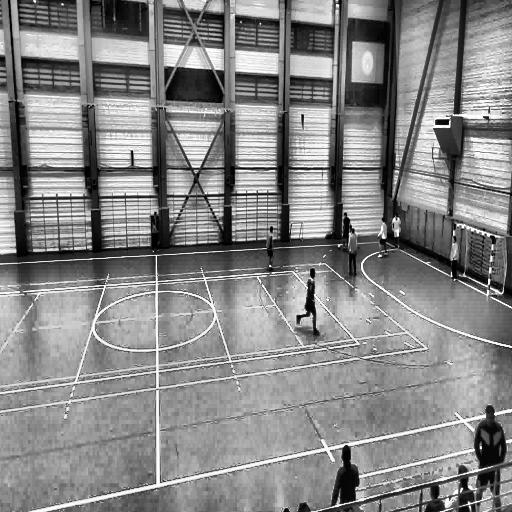ball: (336, 242, 341, 253)
player: (474, 407, 508, 512), (330, 444, 361, 512), (296, 268, 320, 335), (348, 224, 358, 275), (377, 218, 388, 258), (341, 210, 350, 253), (450, 234, 458, 281), (266, 226, 274, 272), (392, 213, 401, 250)
